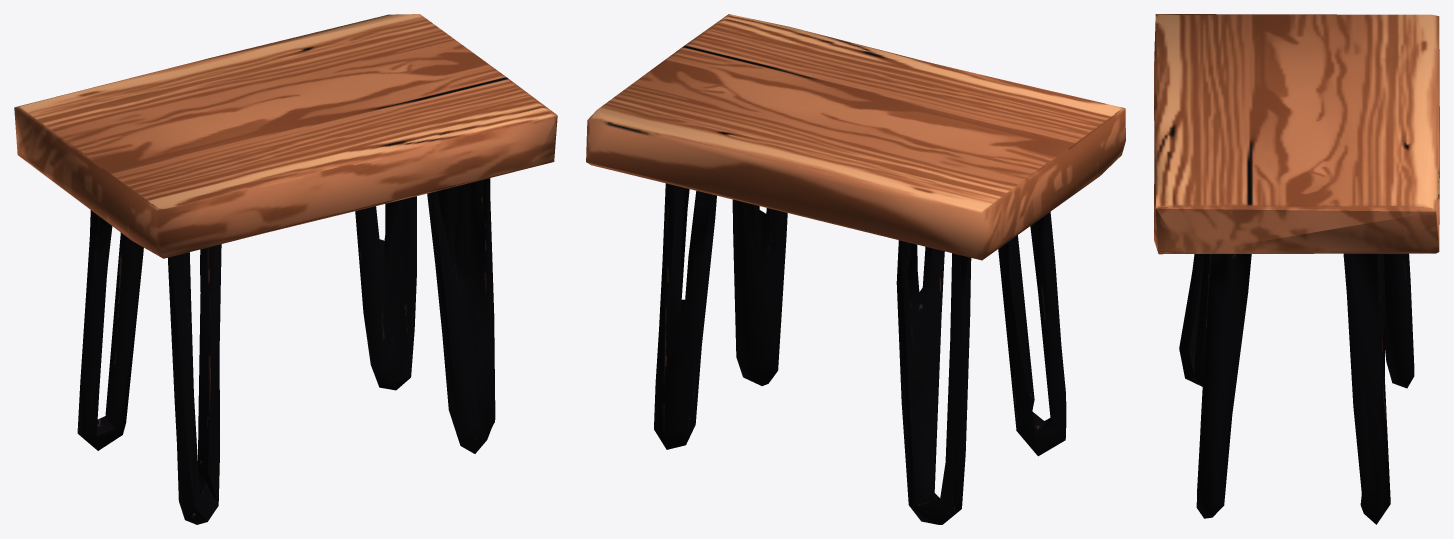
File: live-edge-slab-table.glb
3 renders of one model, left to right at view 1: azimuth 30°, elevation 25°; view 2: azimuth 150°, elevation 25°; view 3: azimuth 270°, elevation 25°, orthographic.
Parts seen in each view (by area): view 1: geometry_0.001; view 2: geometry_0.001; view 3: geometry_0.001.
Boxes of the visible parts, bbox=[...] form: geometry_0.001: bbox=[14, 14, 557, 524]; geometry_0.001: bbox=[586, 14, 1125, 524]; geometry_0.001: bbox=[1154, 14, 1439, 524].
Size of the model in its own units: 0.9996 by 0.8302 by 0.6261.
Materials: 1 (1 with a texture image).
